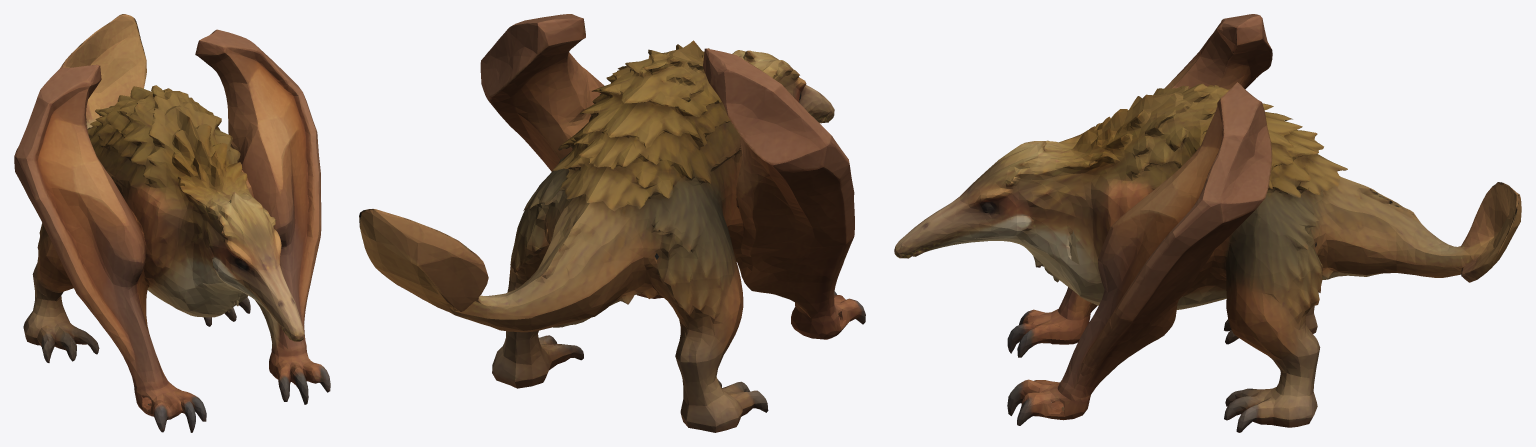
3 views of the same model, side by side, from view 1: azimuth 30°, elevation 25°; view 2: azimuth 150°, elevation 25°; view 3: azimuth 270°, elevation 25° (orthographic). The views are drawn at different scales.
Parts seen in each view (by area): view 1: world; view 2: world; view 3: world.
Boxes of the visible parts, x1,y1,x2,y2 form: world: (14, 14, 330, 432); world: (359, 14, 865, 432); world: (894, 14, 1521, 432).
Size of the model in its own units: 0.5903 by 0.5812 by 0.9993.
1 material, 1 textured.
